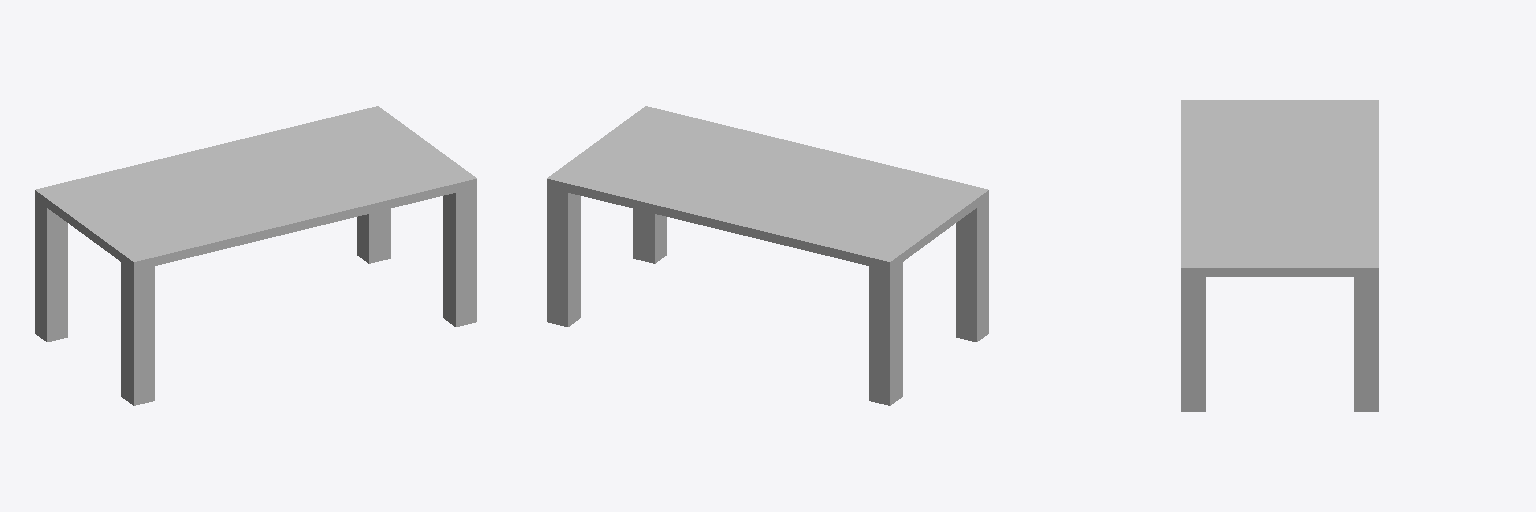
File: table.obj
The picture shows the model from 3 angles: view 1: azimuth 30°, elevation 25°; view 2: azimuth 150°, elevation 25°; view 3: azimuth 270°, elevation 25°; orthographic projection.
Parts seen in each view (by area): view 1: Cube.001; view 2: Cube.001; view 3: Cube.001.
Boxes of the visible parts, box(x1,y1,x2,y2) form: Cube.001: box(35, 106, 476, 405); Cube.001: box(547, 106, 988, 405); Cube.001: box(1181, 100, 1378, 411).
Size of the model in its own units: 8 by 3.2 by 4.